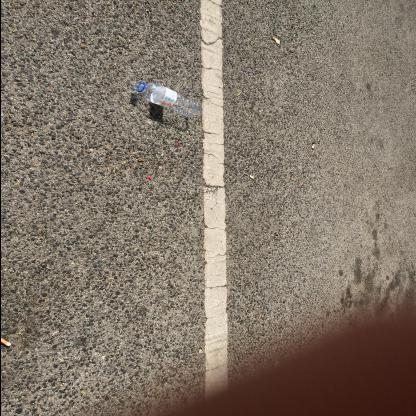plastik: (133, 83, 203, 119)
